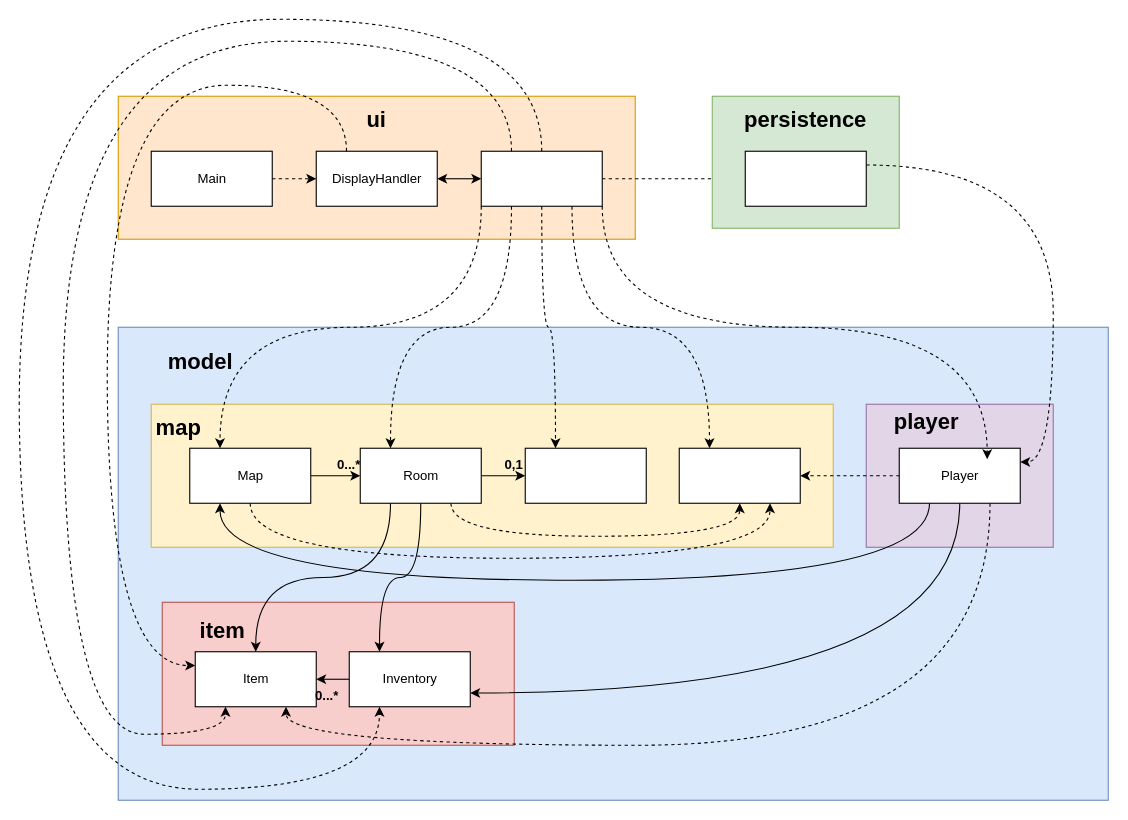
Image size: 1128x820. Some labels were removed from this diagram. Here are the shapes that lost their labels. From the top down, the centre of each, then its label:
At point 541,178: "Inchoate".
At point 805,178: "SaveFileHandler".
At point 585,475: "Riddle".
At point 739,475: "Direction".
